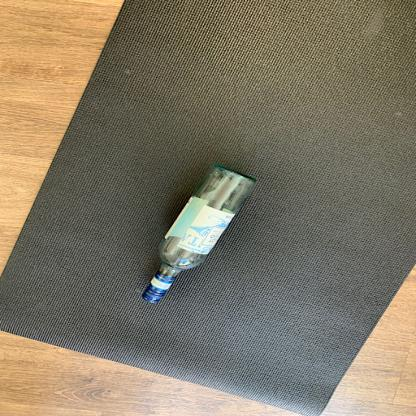trash: (140, 166, 261, 308)
